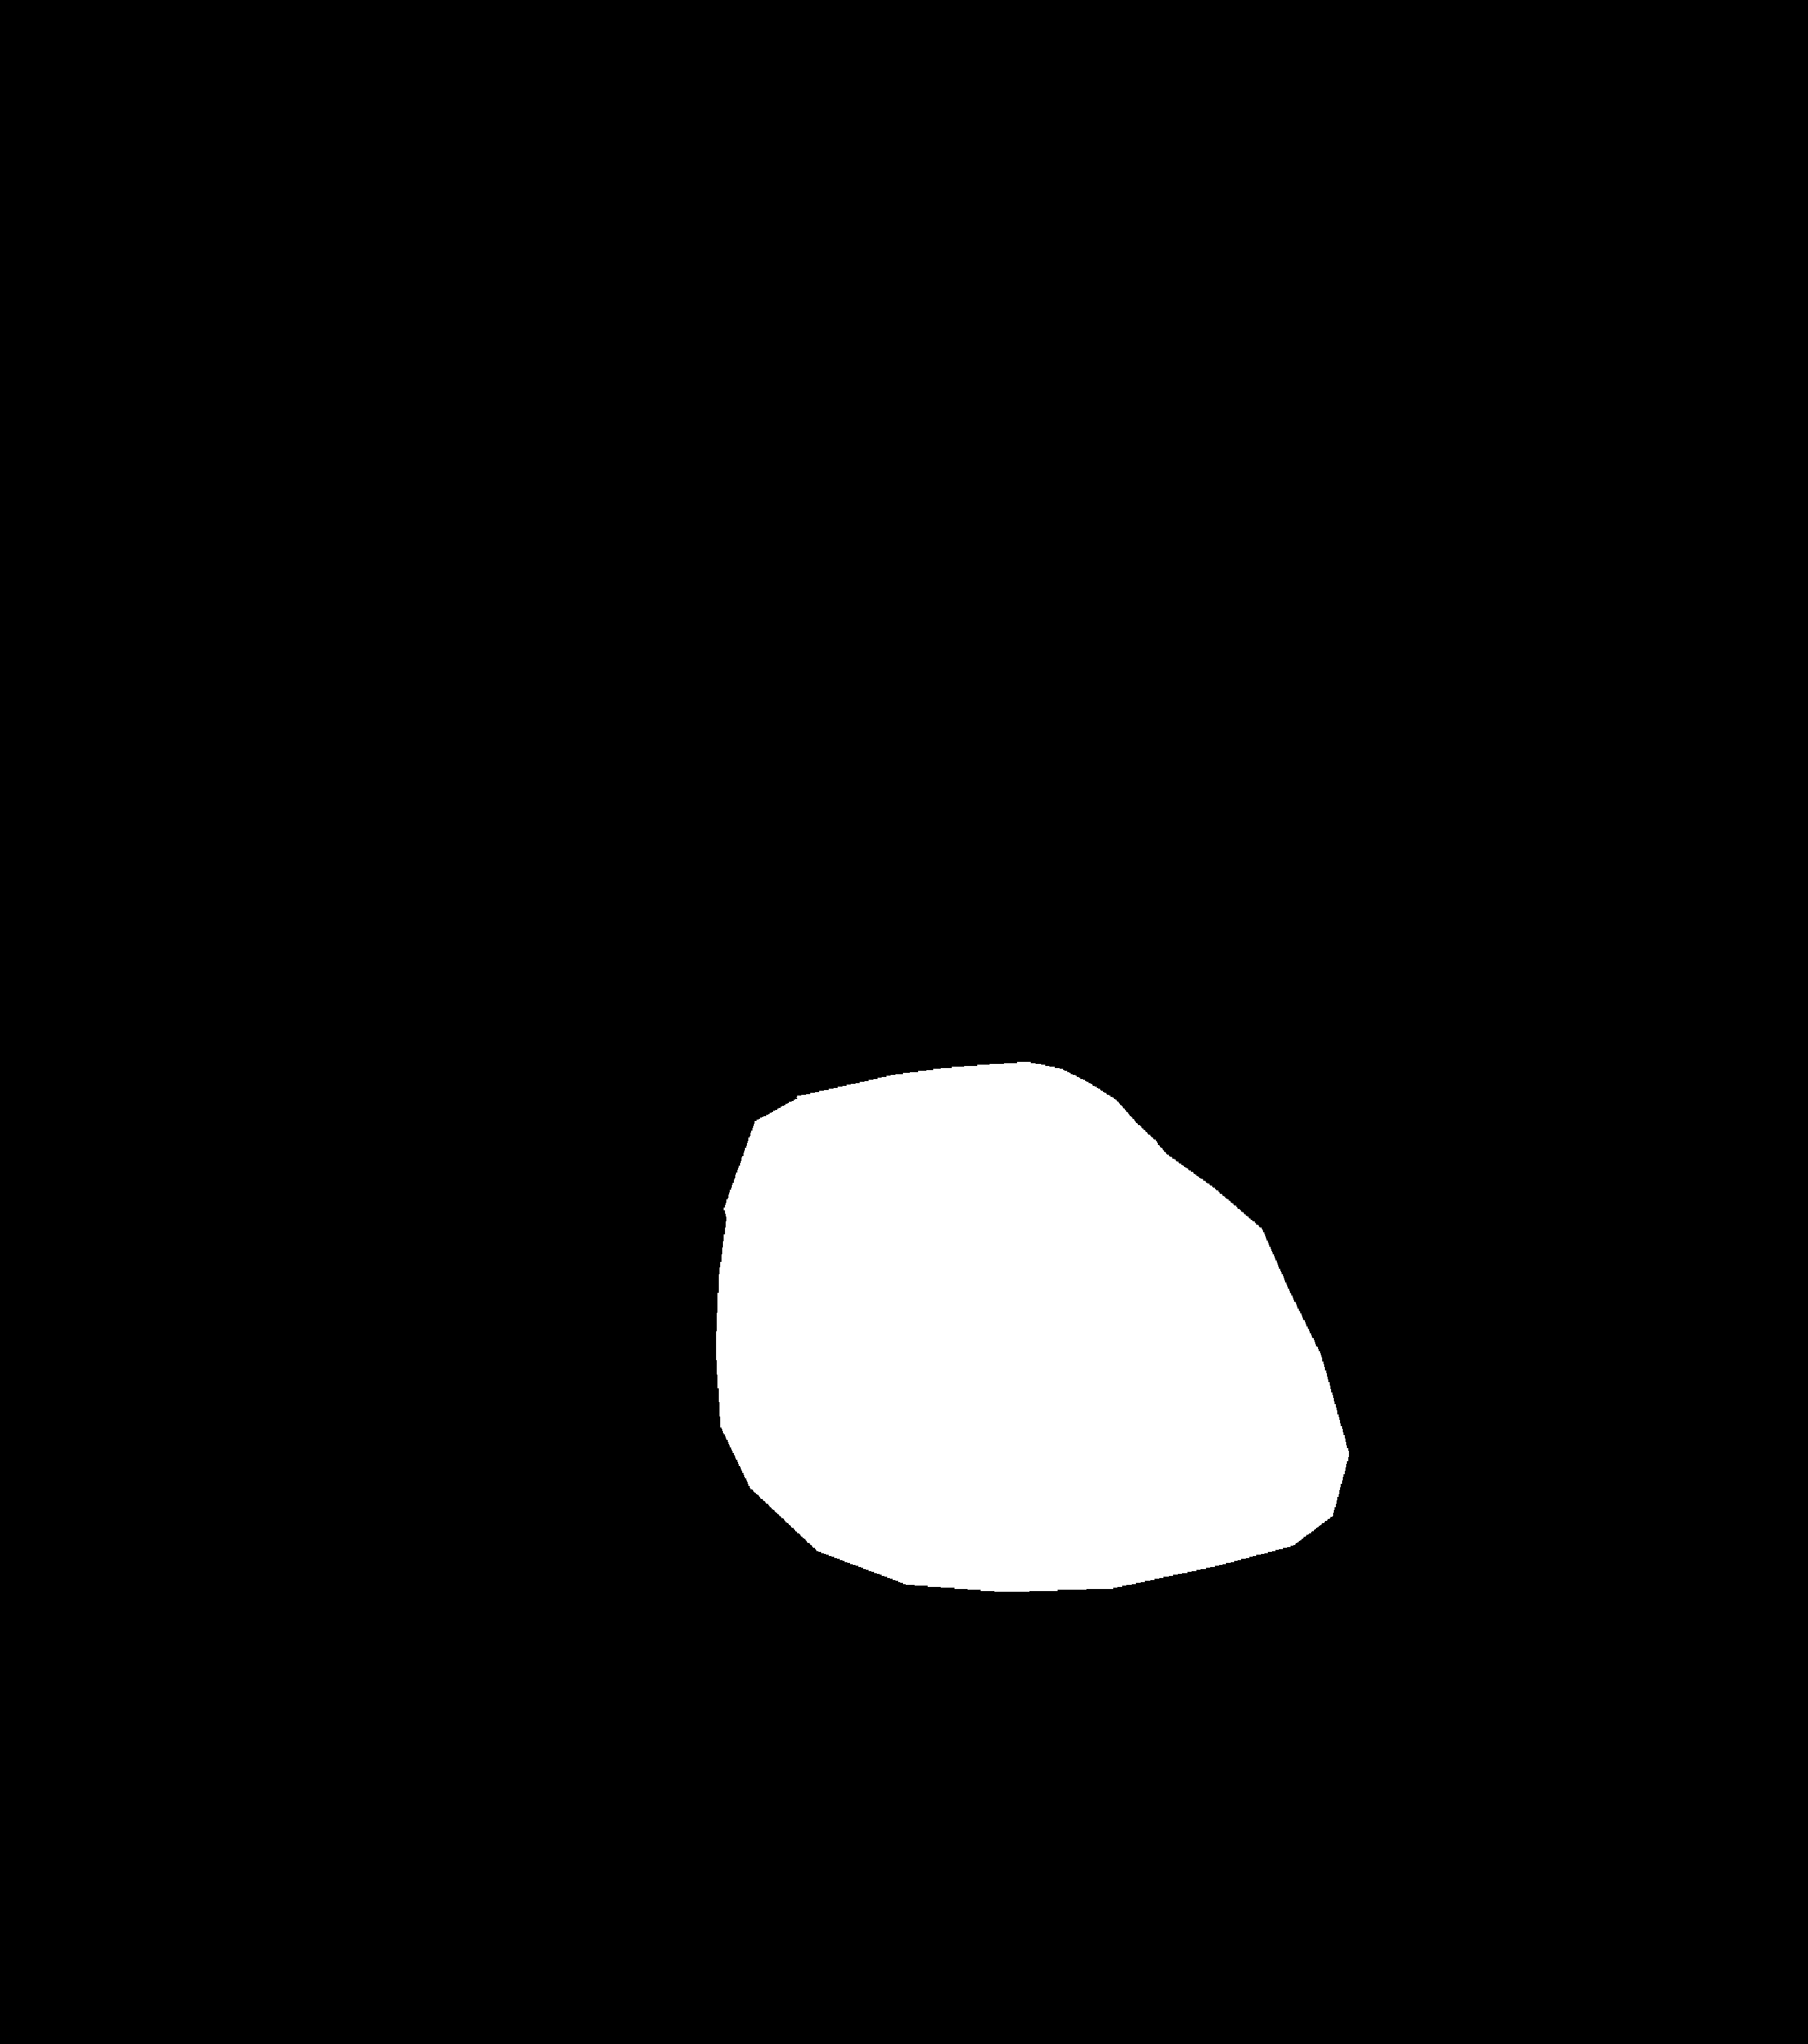heart: (724, 1122, 1342, 1868)
left_lung: (298, 368, 773, 1550)
right_lung: (914, 361, 1555, 1646)
